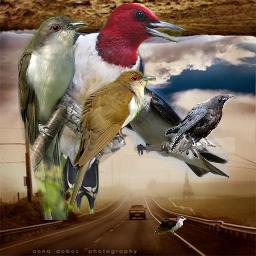Crow: (165, 94, 235, 153)
Cuckoo: (18, 9, 88, 220), (67, 68, 156, 217), (154, 203, 187, 236)
Swallow: (116, 83, 229, 178)
Woodpecker: (38, 3, 190, 214)
